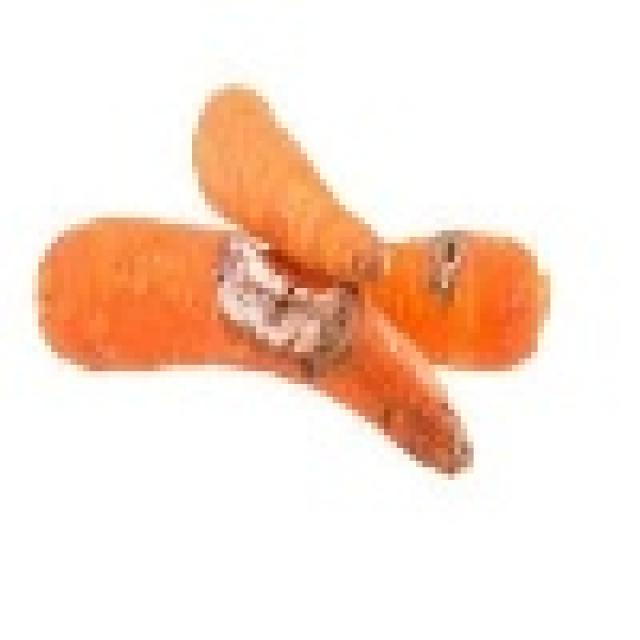Stale_Carrot: (182, 171, 546, 488)
